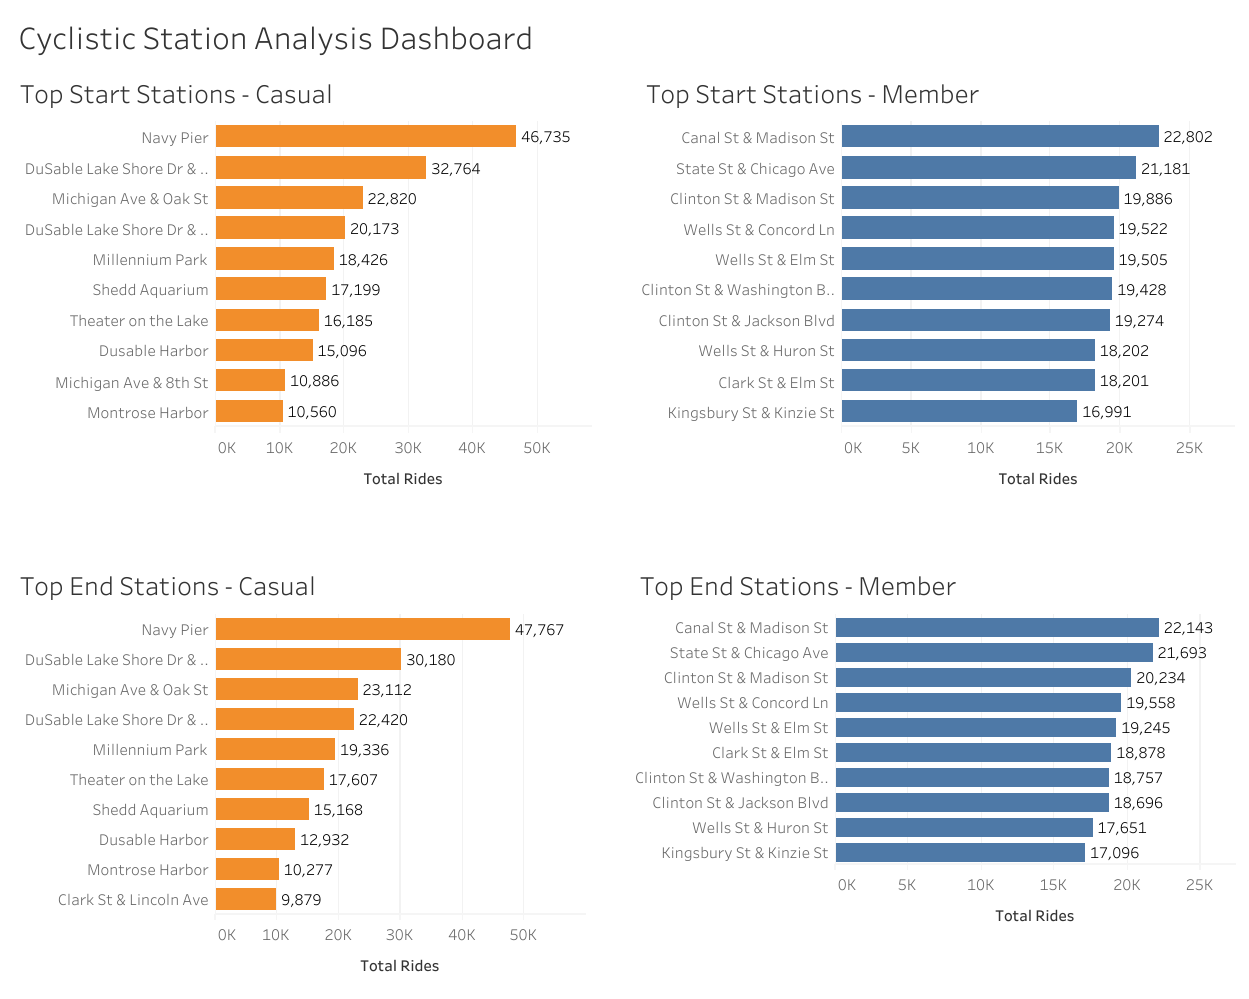

This screenshot's page, from the dashboard's own definition file:
{"tool":"tableau","page":{"name":"Dashboard 2 - Cyclistic Station Analysis Dashboard","canvas":[1000,800],"ordinal":1},"visuals":[{"type":"title","box":[8,8,984,42]},{"type":"worksheet","title":"Top Start Stations - Casual","mark":"Automatic","rows":["category"],"cols":["total_rides"],"box":[8,50,469,352]},{"type":"text","box":[477,50,32,352]},{"type":"worksheet","title":"Top Start Stations - Member","mark":"Automatic","rows":["category"],"cols":["total_rides"],"box":[509,50,483,352]},{"type":"text","box":[8,402,984,42]},{"type":"worksheet","title":"Top End Stations - Casual","mark":"Automatic","rows":["category"],"cols":["total_rides"],"box":[8,444,464,348]},{"type":"text","box":[472,444,32,348]},{"type":"worksheet","title":"Top End Stations - Member","mark":"Automatic","rows":["category"],"cols":["total_rides"],"box":[504,444,488,348]}]}

Visuals, with their boxes in screenshot pixels (x1, y1, x2, y2), scaled from the page's 1000x800 canvas onto the 1249x999 screenshot:
title: bbox=[10, 10, 1239, 62]
"Top Start Stations - Casual" worksheet: bbox=[10, 62, 596, 502]
text: bbox=[596, 62, 636, 502]
"Top Start Stations - Member" worksheet: bbox=[636, 62, 1239, 502]
text: bbox=[10, 502, 1239, 554]
"Top End Stations - Casual" worksheet: bbox=[10, 554, 590, 989]
text: bbox=[590, 554, 629, 989]
"Top End Stations - Member" worksheet: bbox=[629, 554, 1239, 989]
